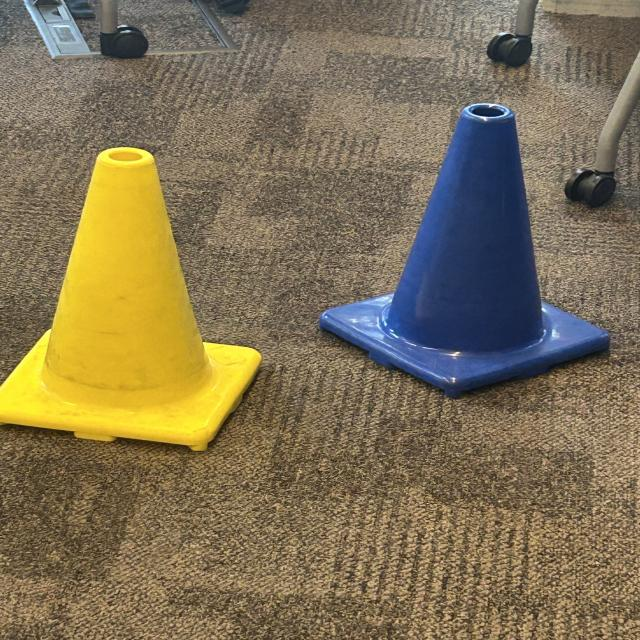blue_cone: (321, 104, 608, 394)
yellow_cone: (0, 147, 262, 451)
